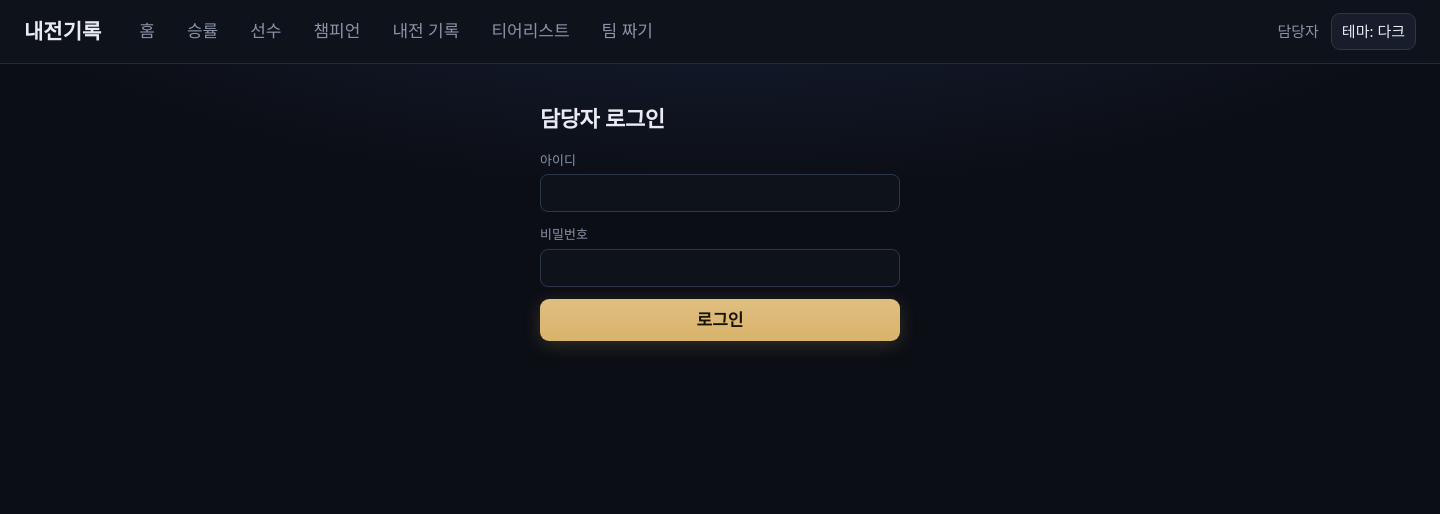
Test: 담당자 인증 흐름 › 로그인에 성공하면 form-urlencoded로 보내고, 원래 가려던 곳으로 이동한다
Type "admin" into the field labelled "아이디" at (720, 193), box left=540, top=174, right=900, bottom=212
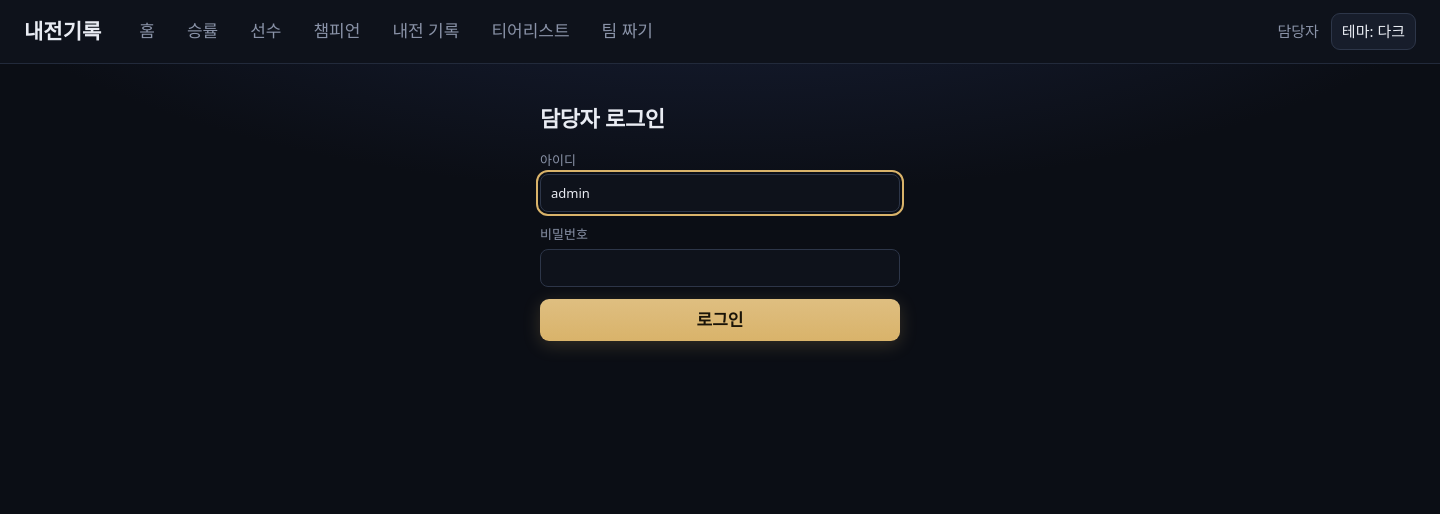
Type "pw 1234" into the password field labelled "비밀번호" at (720, 268), box left=540, top=248, right=900, bottom=287
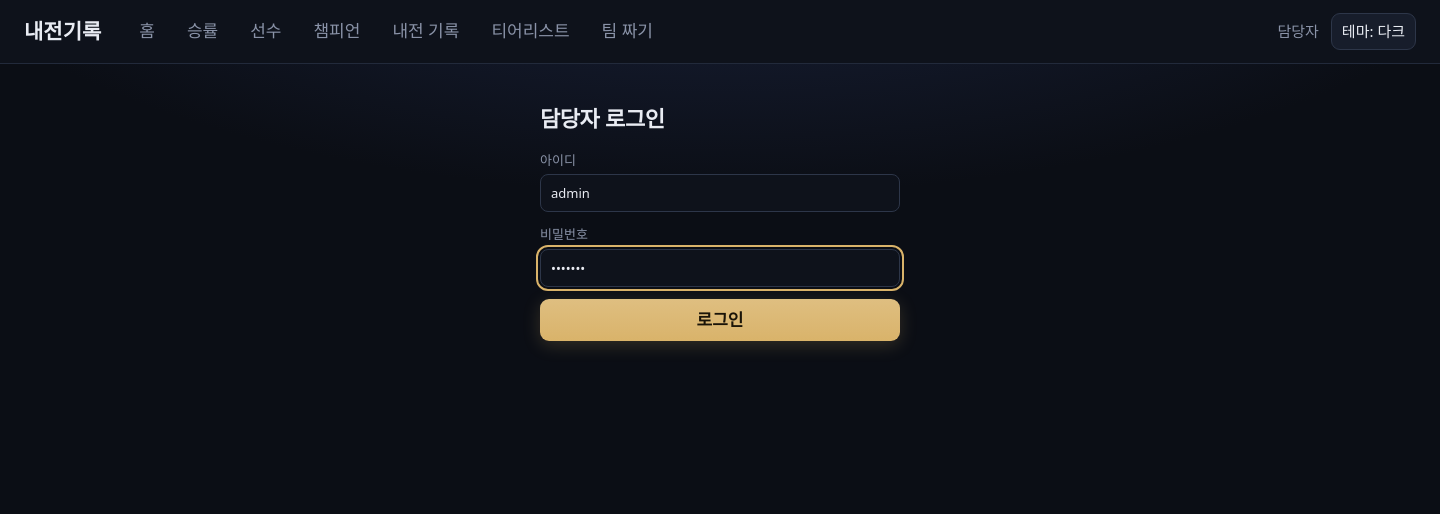
Click the button "로그인" at (720, 320), box left=540, top=299, right=900, bottom=341
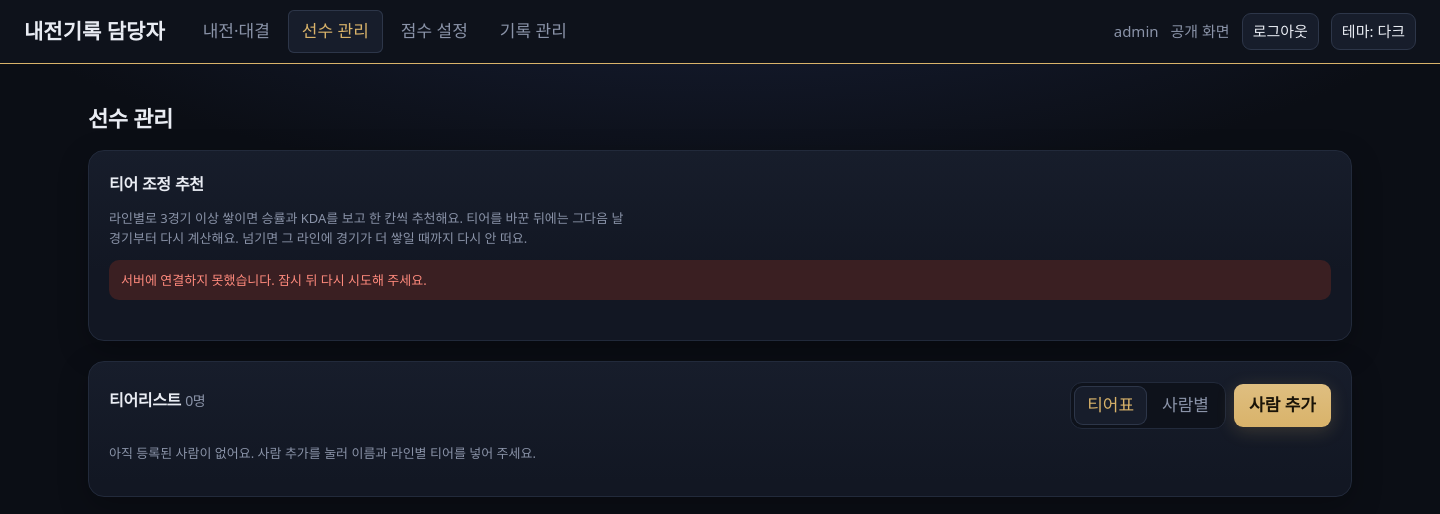
Check: the heading "선수 관리" is shown, box left=88, top=100, right=173, bottom=134
